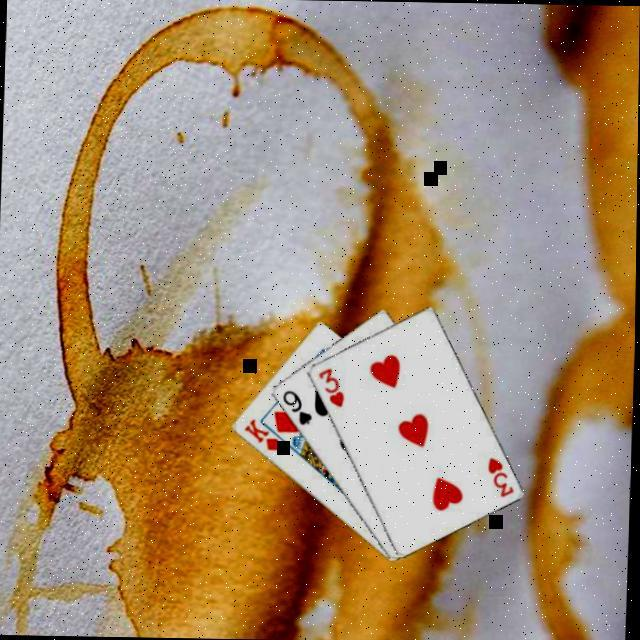3H: (484, 452, 520, 499), (316, 362, 350, 409)
9S: (280, 386, 318, 426)
KD: (242, 413, 285, 452)
